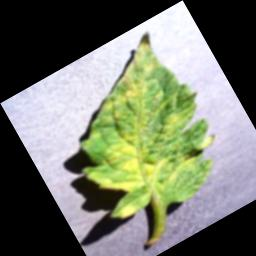Leaf_Mold: (35, 24, 239, 239)
